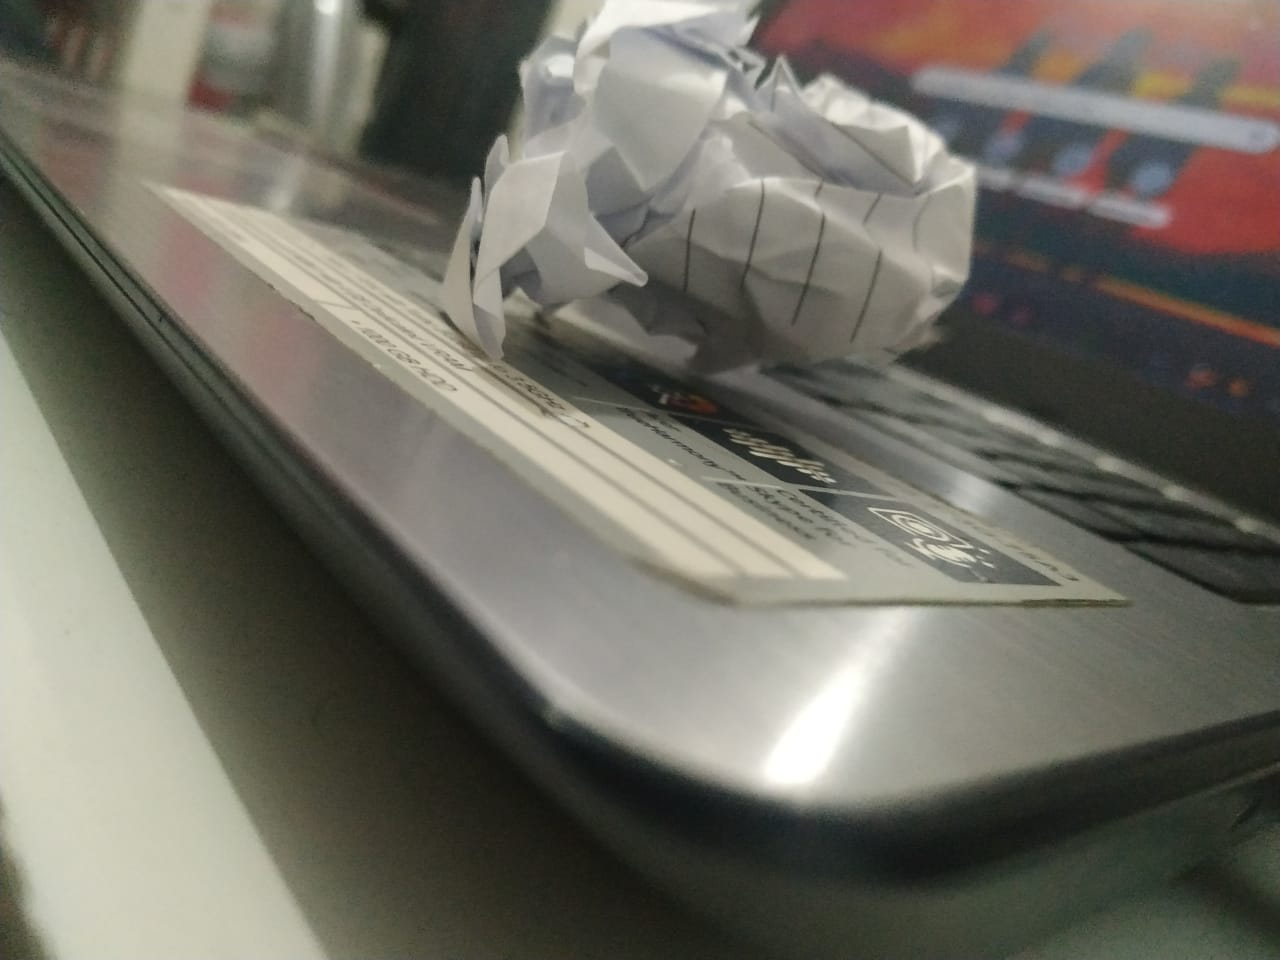paper-crumpled: (425, 2, 981, 399)
